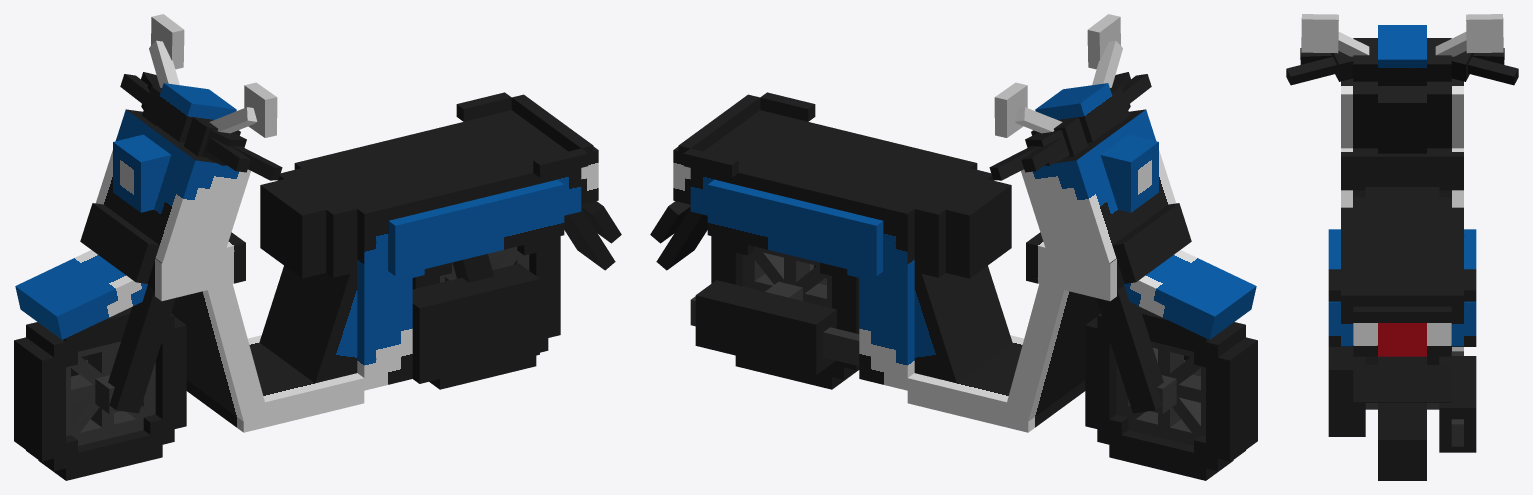
The picture shows the model from 3 angles, left to right: view 1: azimuth 30°, elevation 25°; view 2: azimuth 150°, elevation 25°; view 3: azimuth 270°, elevation 25°; orthographic projection. The views are drawn at different scales.
Visible parts, largest first — view 1: bodi3 (×10), mesin50tax2 (×2), ban1 (×9), bone80 (×2), bone79 (×3), bone69, bone71 (×3), bone78, bone82, ban2 (×3), bone70 (×2), bone77 (+9 smaller); view 2: bodi3 (×10), mesin50tax2 (×3), ban1 (×9), bone80 (×2), bone79 (×3), bone69, bone71 (×3), bone78, bone82, ban2 (×4), bone70 (×2), bone75 (+11 smaller); view 3: bodi3 (×8), bone80 (×2), mesin50tax2 (×3), bone70 (×2), bone71 (×2), bone79 (×3), ban2 (×3), bone75, bone77, bone11 (×2), bone10 (×2), bone78 (+4 smaller).
Boxes of the visible parts, bbox=[...] form: bodi3 (×10): bbox=[113, 92, 598, 432]; mesin50tax2 (×2): bbox=[357, 263, 539, 390]; ban1 (×9): bbox=[14, 307, 186, 480]; bone80 (×2): bbox=[80, 109, 250, 283]; bone79 (×3): bbox=[260, 157, 388, 278]; bone69: bbox=[259, 255, 357, 383]; bone71 (×3): bbox=[108, 83, 240, 413]; bone78: bbox=[171, 274, 264, 421]; bone82: bbox=[15, 250, 147, 339]; ban2 (×3): bbox=[429, 236, 560, 389]; bone70 (×2): bbox=[564, 201, 621, 270]; bone77: bbox=[244, 82, 277, 137]; bodi3 (×10): bbox=[673, 92, 1158, 432]; mesin50tax2 (×3): bbox=[690, 271, 914, 390]; ban1 (×9): bbox=[1085, 307, 1257, 480]; bone80 (×2): bbox=[1021, 109, 1191, 283]; bone79 (×3): bbox=[883, 157, 1011, 278]; bone69: bbox=[914, 252, 1012, 383]; bone71 (×3): bbox=[1031, 83, 1163, 413]; bone78: bbox=[1007, 274, 1100, 422]; bone82: bbox=[1124, 250, 1256, 339]; ban2 (×4): bbox=[723, 239, 859, 389]; bone70 (×2): bbox=[650, 201, 707, 270]; bone75: bbox=[994, 82, 1027, 137]; bodi3 (×8): bbox=[1328, 148, 1476, 356]; bone80 (×2): bbox=[1341, 78, 1463, 153]; mesin50tax2 (×3): bbox=[1328, 347, 1476, 452]; bone70 (×2): bbox=[1353, 356, 1451, 440]; bone71 (×2): bbox=[1353, 25, 1451, 85]; bone79 (×3): bbox=[1341, 187, 1463, 217]; ban2 (×3): bbox=[1378, 441, 1426, 480]; bone75: bbox=[1466, 14, 1503, 53]; bone77: bbox=[1301, 14, 1338, 53]; bone11 (×2): bbox=[1451, 51, 1518, 85]; bone10 (×2): bbox=[1286, 51, 1353, 85]; bone78: bbox=[1341, 190, 1463, 207].
Size of the model in its own units: 2.97 by 1.85 by 1.18.
1 material, 1 textured.
